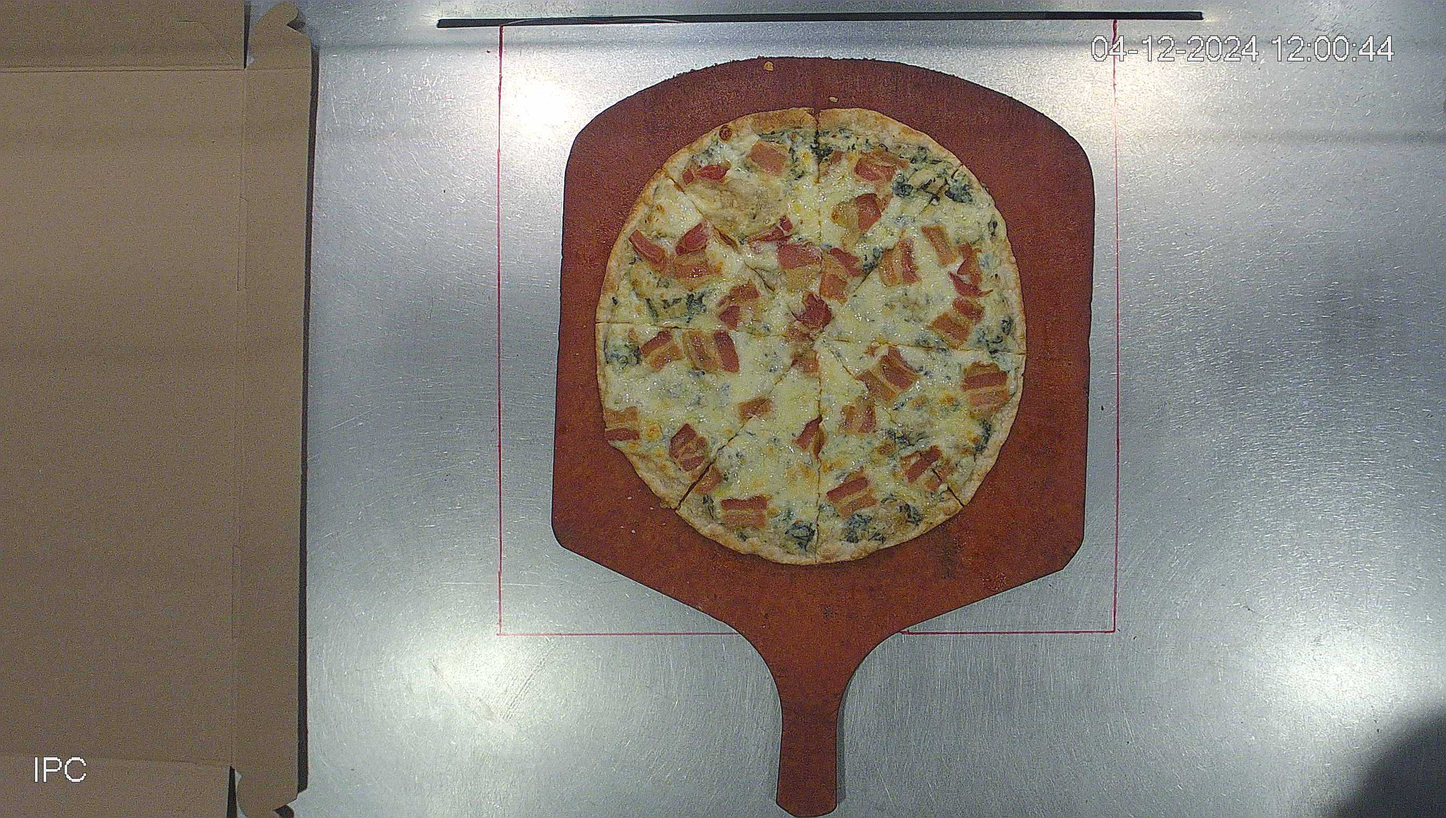pepporoni: (595, 105, 1025, 568)
